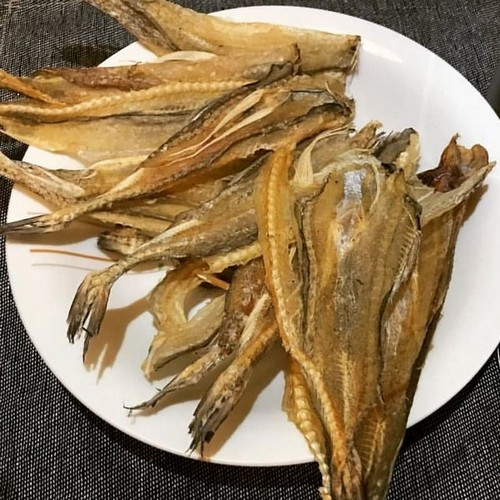sudang lepet: (271, 137, 441, 485), (16, 60, 362, 204)
